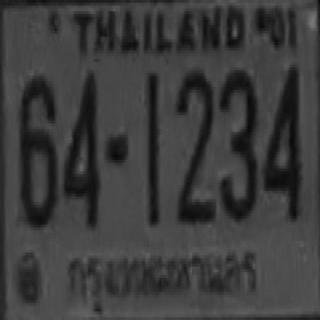N01: (145, 72, 158, 223)
N02: (176, 69, 213, 220)
N03: (218, 67, 255, 219)
N04: (62, 70, 98, 224), (263, 63, 298, 218)
N06: (17, 73, 56, 224)
P04: (63, 240, 265, 315)
